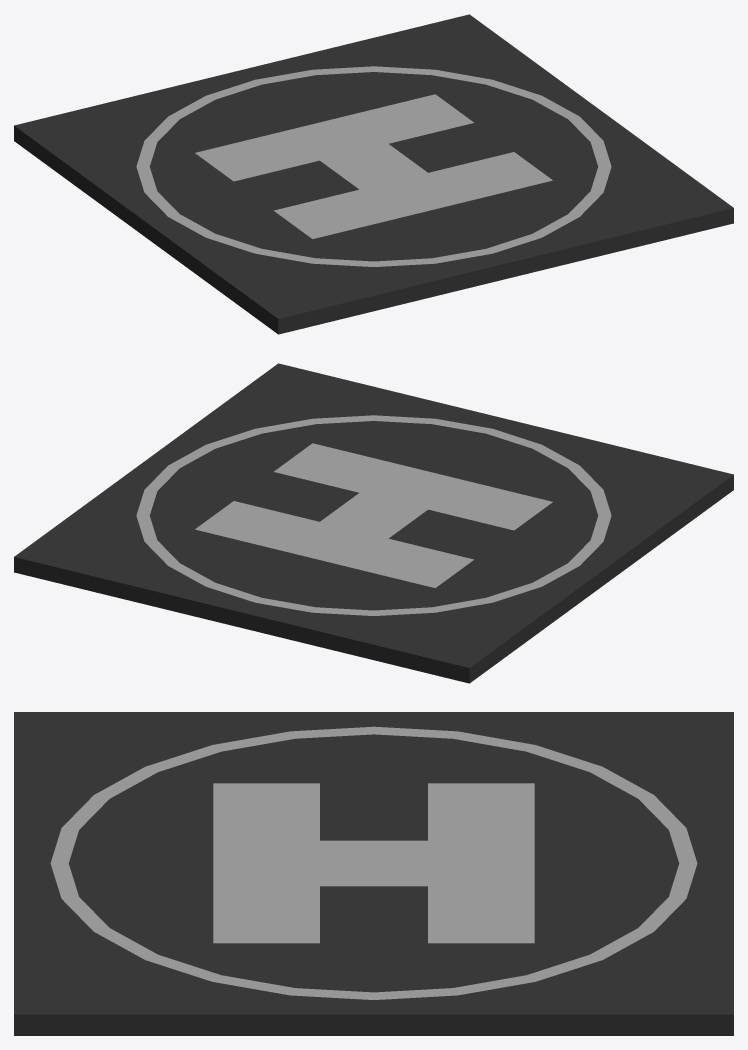
Rendered from SA_Bld_HospitalBuildingMain_HeliPad_01.001.gltf.
The picture shows the model from 3 angles, top to bottom: view 1: azimuth 30°, elevation 25°; view 2: azimuth 150°, elevation 25°; view 3: azimuth 270°, elevation 25°; orthographic projection. The views are drawn at different scales.
Visible parts, largest first — view 1: SA_Bld_HospitalBuildingMain_HeliPad_01.001; view 2: SA_Bld_HospitalBuildingMain_HeliPad_01.001; view 3: SA_Bld_HospitalBuildingMain_HeliPad_01.001.
Boxes of the visible parts, x1,y1,x2,y2 form: SA_Bld_HospitalBuildingMain_HeliPad_01.001: (14,14,733,334); SA_Bld_HospitalBuildingMain_HeliPad_01.001: (14,363,733,683); SA_Bld_HospitalBuildingMain_HeliPad_01.001: (14,712,733,1035).
Bounding box in the file's own units: 12.43 × 0.4049 × 12.5.
Materials: 1 (1 with a texture image).
